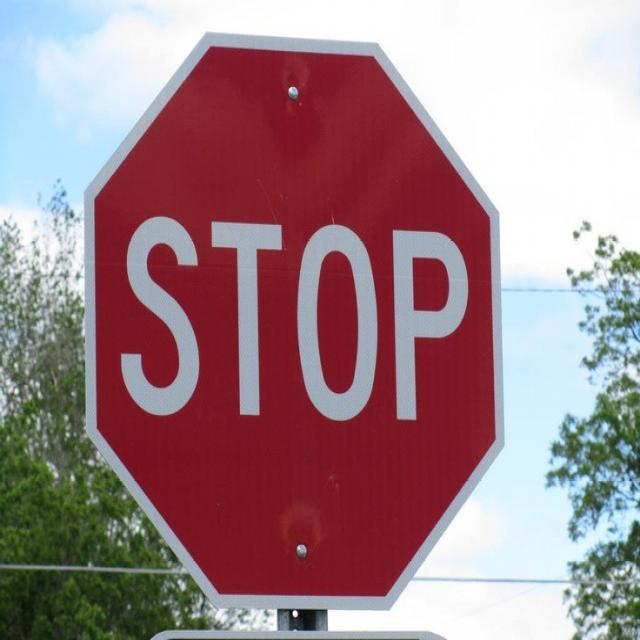stop: (96, 47, 493, 596)
